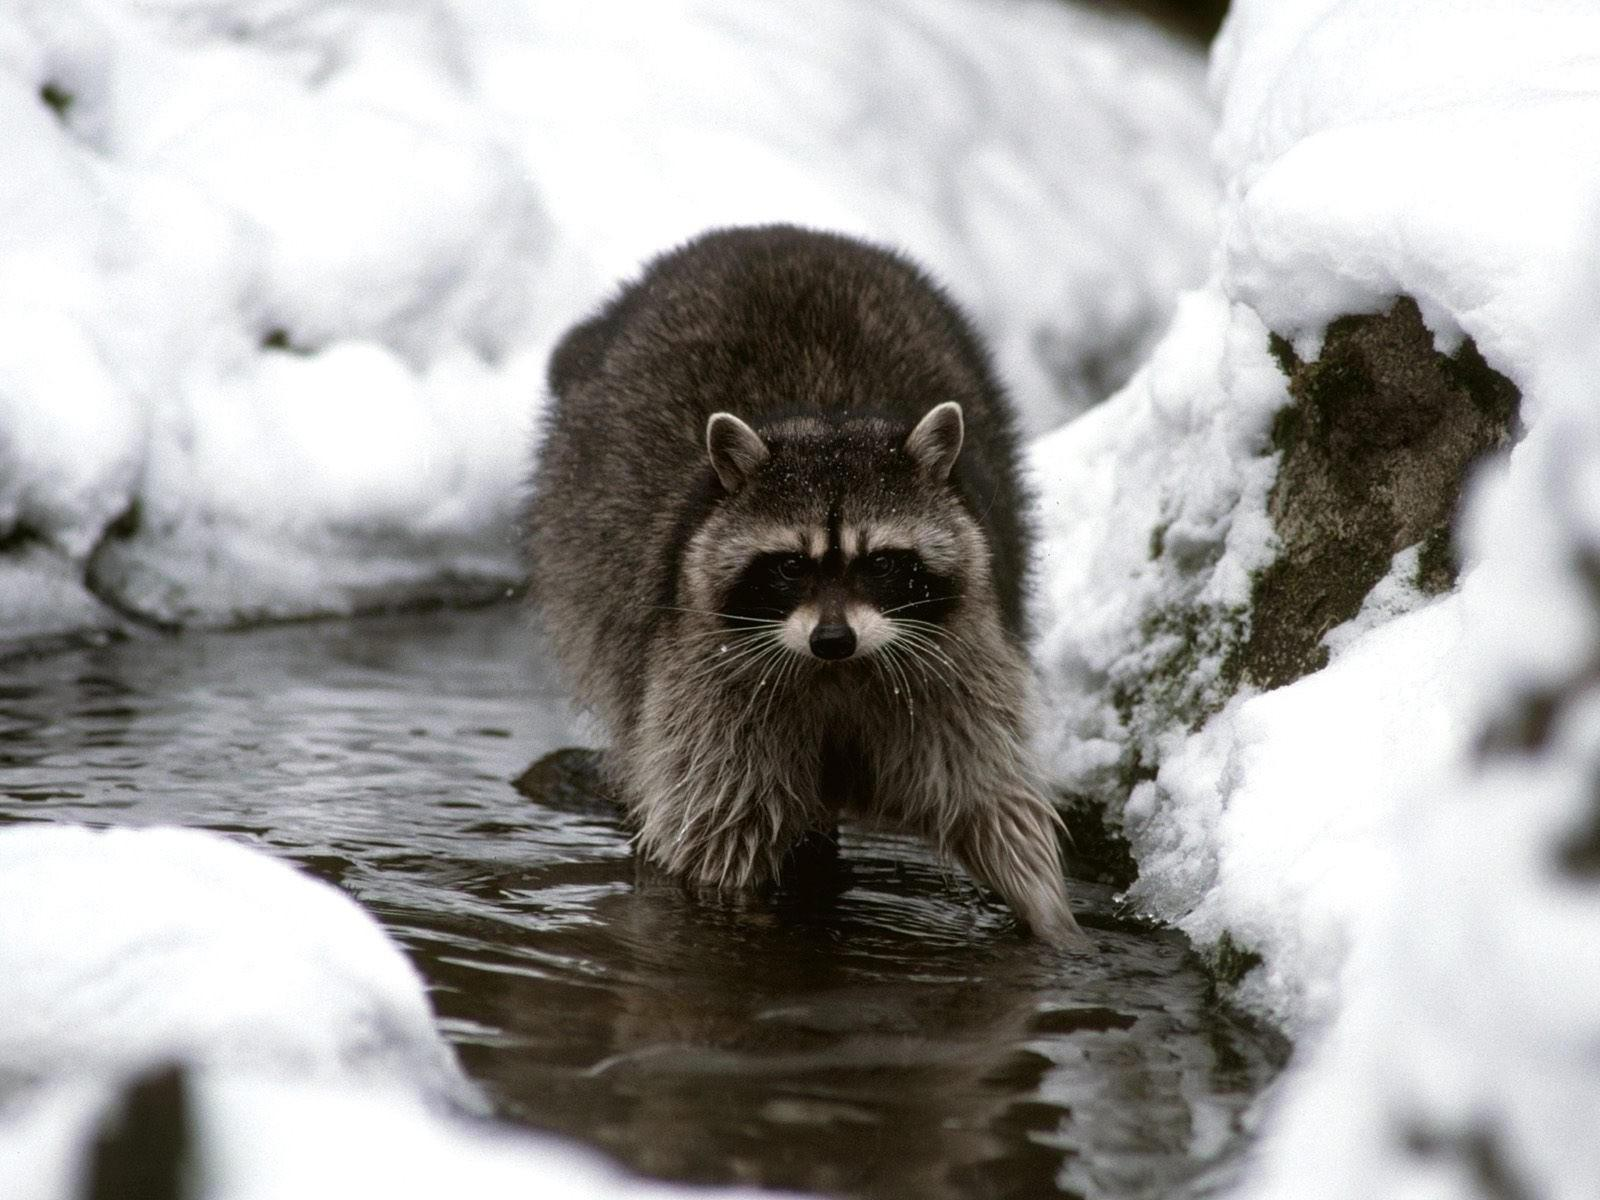raccoon: (523, 221, 1078, 955)
